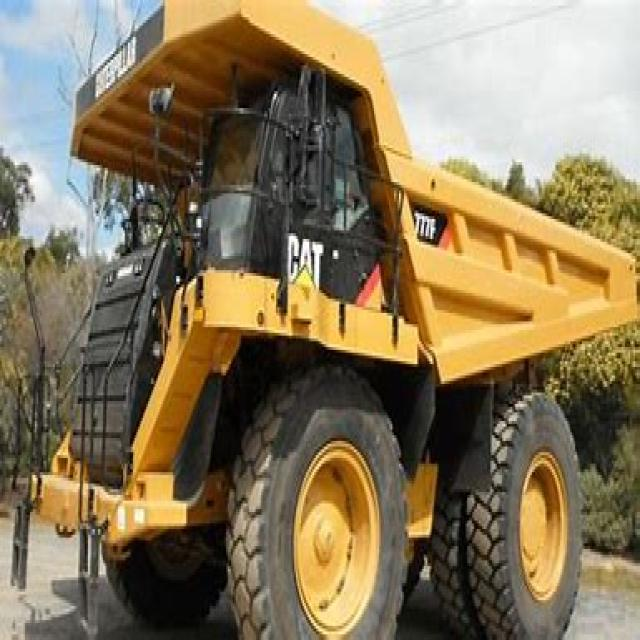dump_truck: (36, 12, 638, 638)
